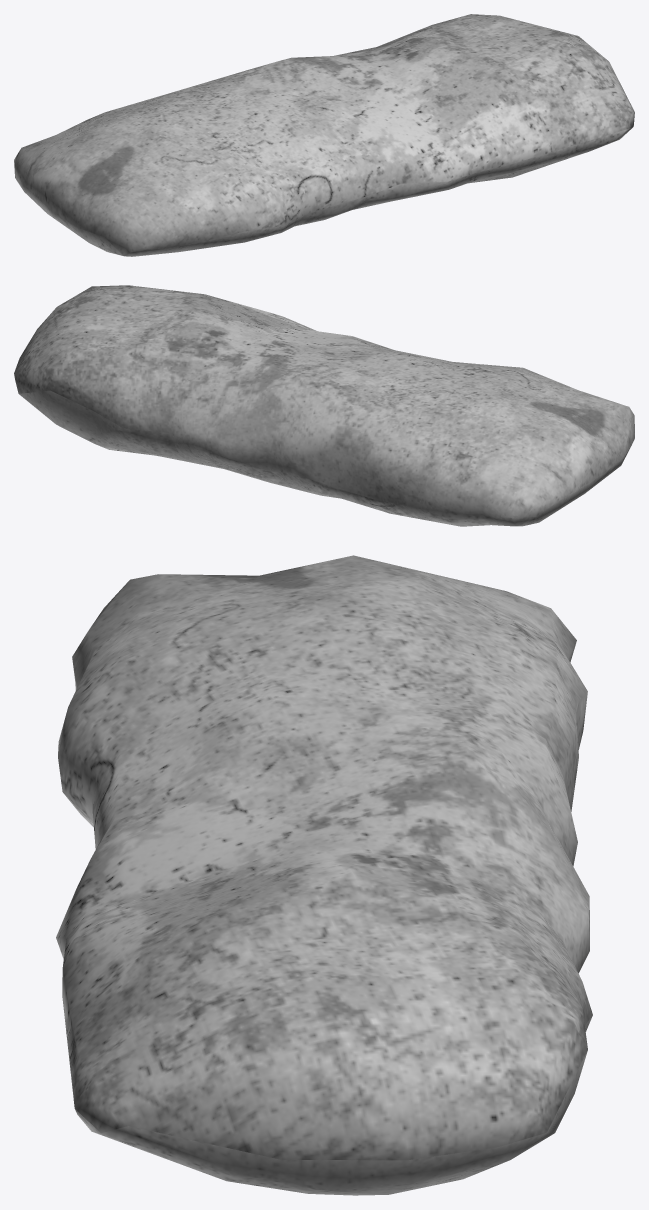
Rendered from SM_Snow_Pile_02b.fbx.
The picture shows the model from 3 angles, top to bottom: view 1: azimuth 30°, elevation 25°; view 2: azimuth 150°, elevation 25°; view 3: azimuth 270°, elevation 25°; orthographic projection. The views are drawn at different scales.
Parts seen in each view (by area): view 1: SM_Snow_Pile_02b_LOD0; view 2: SM_Snow_Pile_02b_LOD0; view 3: SM_Snow_Pile_02b_LOD0.
Boxes of the visible parts, x1=… form: SM_Snow_Pile_02b_LOD0: x1=14, y1=14, x2=634, y2=256; SM_Snow_Pile_02b_LOD0: x1=14, y1=285, x2=634, y2=526; SM_Snow_Pile_02b_LOD0: x1=56, y1=555, x2=592, y2=1195.
Size of the model in its own units: 193 by 81.62 by 41.24.
